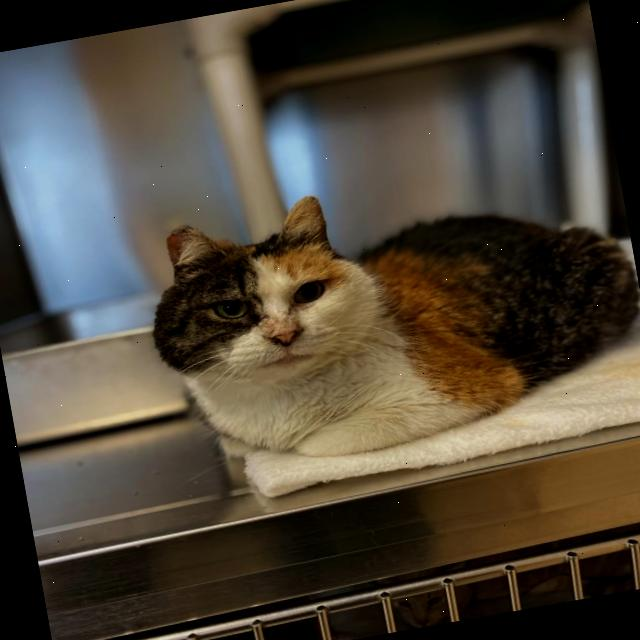manx_cat: (124, 176, 410, 420)
